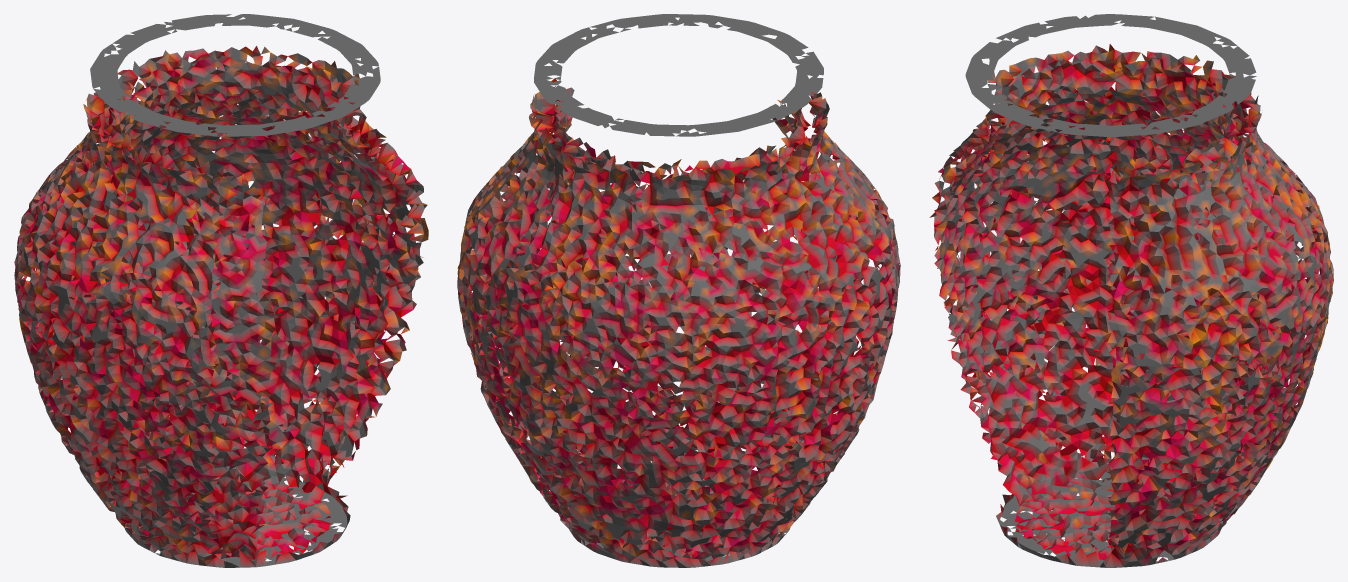
The model's file is vase_final200.obj.
3 views of the same model, side by side, from view 1: azimuth 30°, elevation 25°; view 2: azimuth 150°, elevation 25°; view 3: azimuth 270°, elevation 25° (orthographic).
Size of the model in its own units: 1.54 by 1.72 by 1.4.
